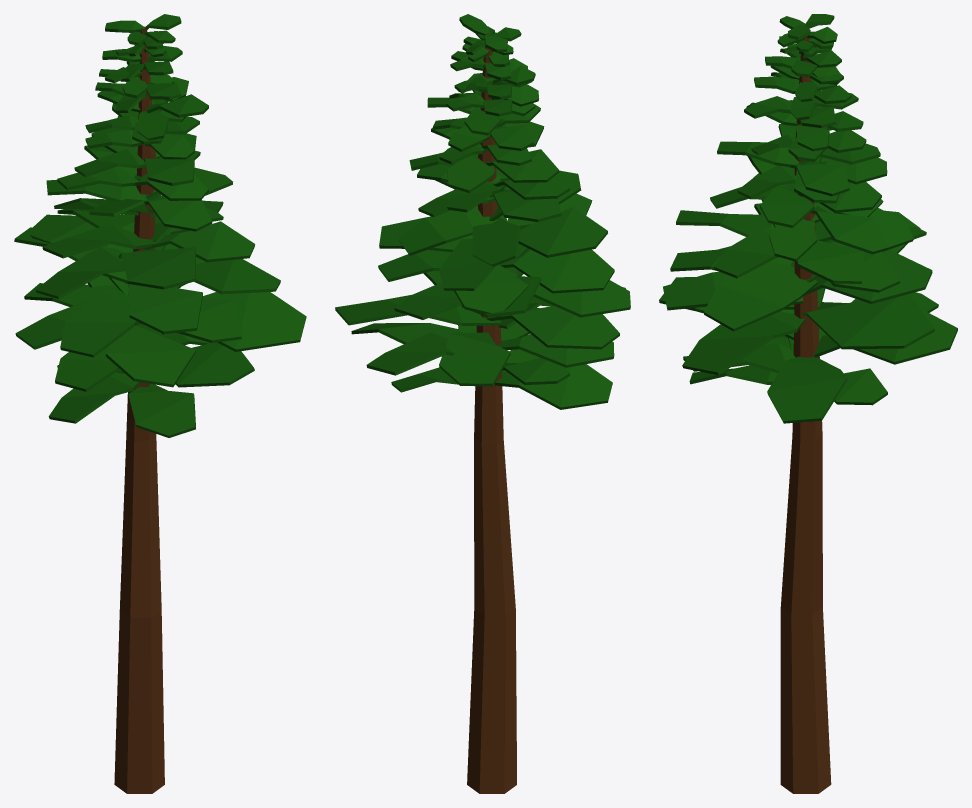
The model's file is very_tall_tree.fbx.
3 views of the same model, side by side, from view 1: azimuth 30°, elevation 25°; view 2: azimuth 150°, elevation 25°; view 3: azimuth 270°, elevation 25° (orthographic).
Parts seen in each view (by area): view 1: Cylinder.002, Cylinder.003; view 2: Cylinder.002, Cylinder.003; view 3: Cylinder.002, Cylinder.003.
Part boxes in pixels (x1,y1,x2,y2): Cylinder.002: (14,14,306,437); Cylinder.003: (114,26,164,793); Cylinder.002: (335,14,630,409); Cylinder.003: (467,33,516,793); Cylinder.002: (659,14,957,423); Cylinder.003: (780,27,831,793).
Size of the model in its own units: 751 by 2175 by 769.
